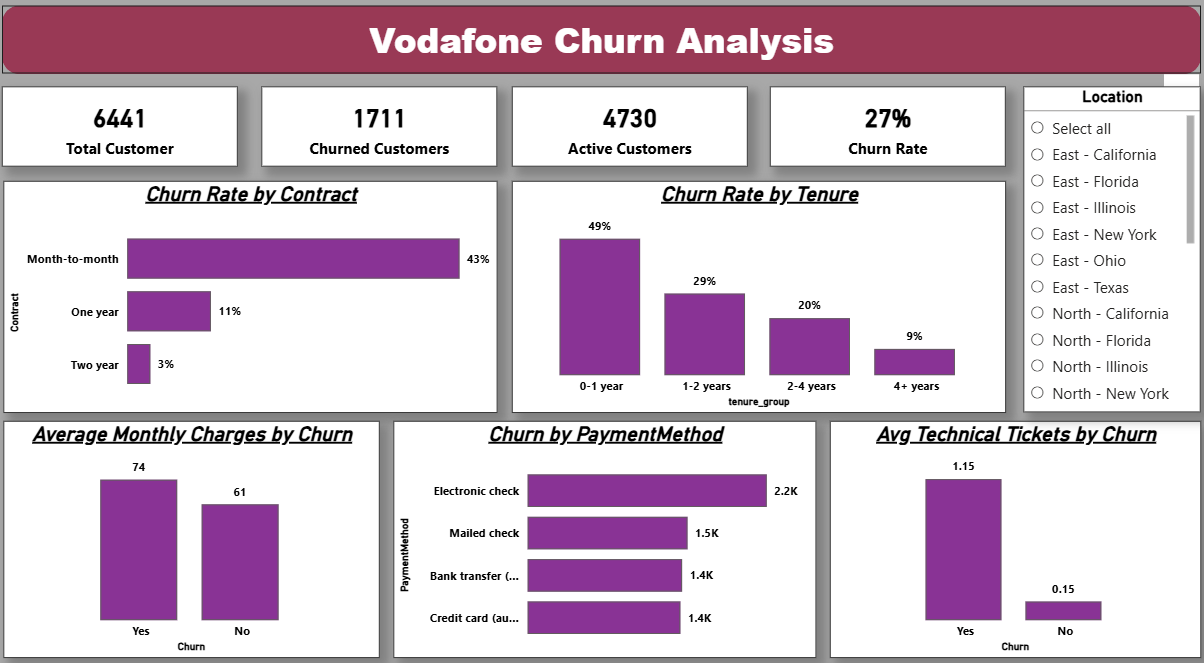

The dashboard page shown, as its layout file describes it:
{"tool":"powerbi","page":{"name":"Page 1","canvas":[1280,720],"ordinal":0},"visuals":[{"type":"shape","box":[6.1,10.6,1268.9,72.7],"z":0},{"type":"card","fields":{"Values":["vodafone_churn customers.Total Customer"]},"box":[6.6,96.9,249.4,84.9],"z":1000},{"type":"card","fields":{"Values":["Sum(vodafone_churn customers.churn_flag)"]},"box":[281.3,96.9,249.4,84.9],"z":2000},{"type":"card","fields":{"Values":["vodafone_churn customers.Active Customers"]},"box":[545.3,96.9,249.4,84.9],"z":3000},{"type":"card","fields":{"Values":["vodafone_churn customers.Churn Rate (%)"]},"box":[818.6,96.9,249.4,84.9],"z":4000},{"type":"clusteredBarChart","title":"Churn Rate by Contract","fields":{"Y":["Measures Table.Churn Rate (%)"],"Category":["vodafone_churn customers.Contract"]},"box":[8,196.4,522.8,245.5],"z":4001},{"type":"clusteredColumnChart","title":"Churn Rate by Tenure","fields":{"Y":["Measures Table.Churn Rate (%)"],"Category":["vodafone_churn customers.tenure_group"]},"box":[545.3,196.4,522.8,245.5],"z":4002},{"type":"clusteredColumnChart","fields":{"Y":["Avg(vodafone_churn customers.MonthlyCharges)"],"Category":["vodafone_churn customers.Churn"]},"box":[8,451.1,398,250.8],"z":4003},{"type":"clusteredBarChart","fields":{"Category":["vodafone_churn customers.PaymentMethod"],"Y":["CountNonNull(vodafone_churn customers.Churn)"]},"box":[420.6,451.1,447.1,250.8],"z":4004},{"type":"clusteredColumnChart","title":"Avg Technical Tickets by Churn","fields":{"Category":["vodafone_churn customers.Churn"],"Y":["Avg(vodafone_churn customers.numTechTickets)"]},"box":[882.3,451.1,392.7,250.8],"z":4005},{"type":"listSlicer","fields":{"Values":["vodafone_churn customers.Location"]},"box":[1088,96.9,187.1,345],"z":4006}]}

Visuals, with their boxes in screenshot pixels (x1, y1, x2, y2), scaled from the page's 1280x720 canvas onto the 1204x663 screenshot:
shape: [left=6, top=10, right=1199, bottom=77]
card - vodafone_churn customers.Total Customer: [left=6, top=89, right=241, bottom=167]
card - Sum(vodafone_churn customers.churn_flag): [left=265, top=89, right=499, bottom=167]
card - vodafone_churn customers.Active Customers: [left=513, top=89, right=748, bottom=167]
card - vodafone_churn customers.Churn Rate (%): [left=770, top=89, right=1005, bottom=167]
"Churn Rate by Contract" clusteredBarChart: [left=8, top=181, right=499, bottom=407]
"Churn Rate by Tenure" clusteredColumnChart: [left=513, top=181, right=1005, bottom=407]
clusteredColumnChart - Avg(vodafone_churn customers.MonthlyCharges) x vodafone_churn customers.Churn: [left=8, top=415, right=382, bottom=646]
clusteredBarChart - vodafone_churn customers.PaymentMethod x CountNonNull(vodafone_churn customers.Churn): [left=396, top=415, right=816, bottom=646]
"Avg Technical Tickets by Churn" clusteredColumnChart: [left=830, top=415, right=1199, bottom=646]
listSlicer - vodafone_churn customers.Location: [left=1023, top=89, right=1199, bottom=407]
